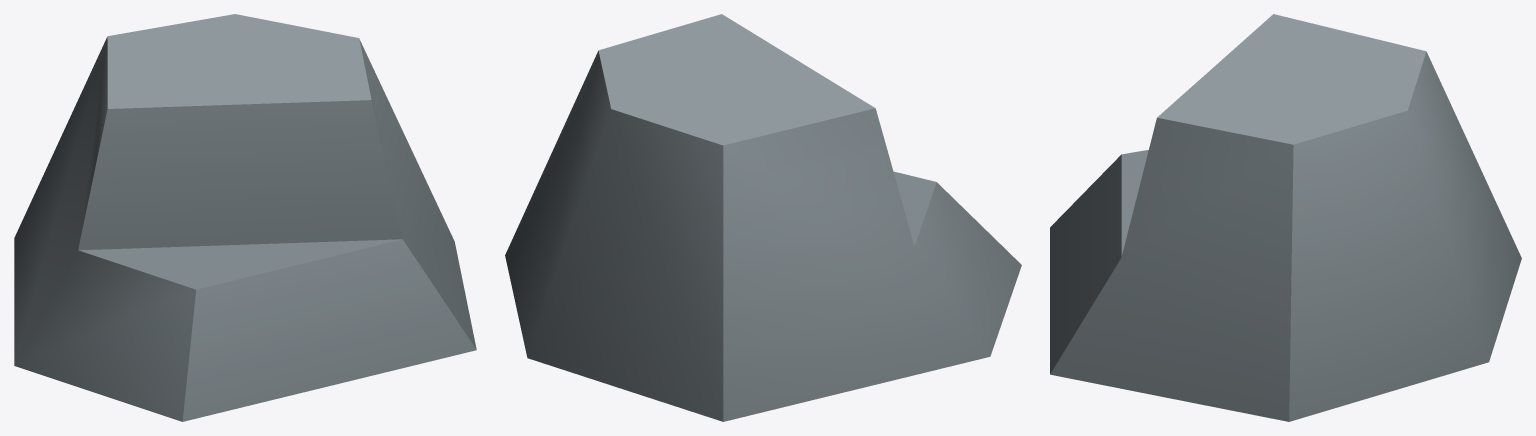
The model's file is hex-rock_single_B.glb.
3 renders of one model, left to right at view 1: azimuth 30°, elevation 25°; view 2: azimuth 150°, elevation 25°; view 3: azimuth 270°, elevation 25°, orthographic. The views are drawn at different scales.
Parts seen in each view (by area): view 1: rock_single_B; view 2: rock_single_B; view 3: rock_single_B.
Part boxes in pixels (<box>): rock_single_B: <box>14,14,476,421</box>; rock_single_B: <box>505,14,1021,421</box>; rock_single_B: <box>1050,14,1521,421</box>.
Size of the model in its own units: 0.2866 by 0.1346 by 0.2497.
1 material, 1 textured.
